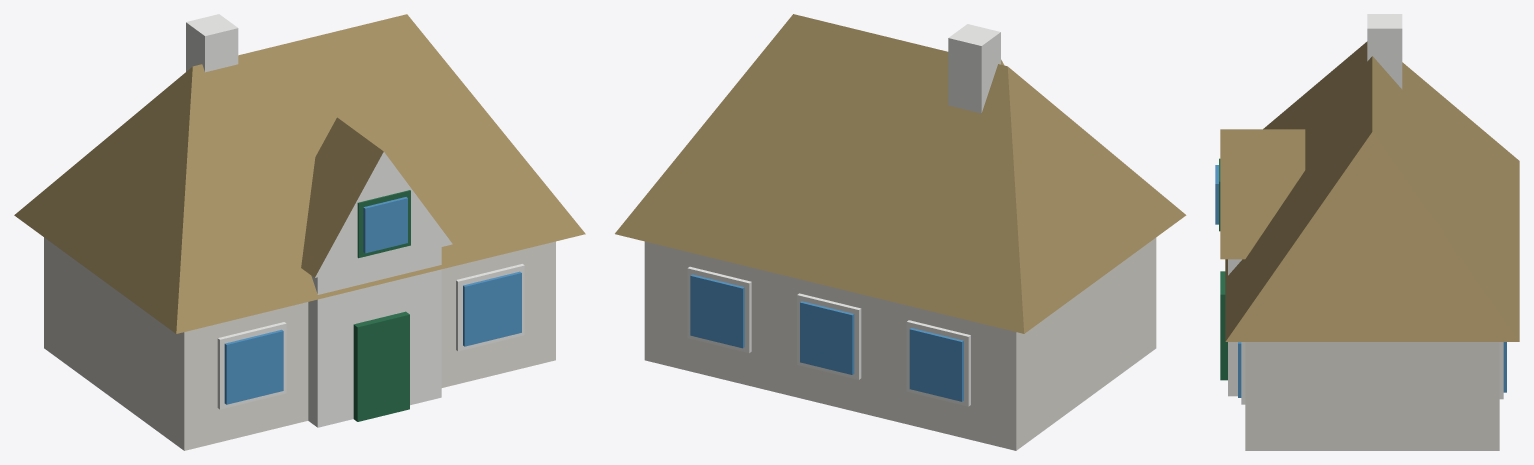
The model's file is 26_frisian_thatch_2.obj.
3 views of the same model, side by side, from view 1: azimuth 30°, elevation 25°; view 2: azimuth 150°, elevation 25°; view 3: azimuth 270°, elevation 25° (orthographic). The views are drawn at different scales.
Parts seen in each view (by area): view 1: 26_frisian_thatch_2; view 2: 26_frisian_thatch_2; view 3: 26_frisian_thatch_2.
Part boxes in pixels (x1,y1,x2,y2): 26_frisian_thatch_2: (14,14,585,450); 26_frisian_thatch_2: (615,14,1186,450); 26_frisian_thatch_2: (1215,14,1519,450).
Bounding box in the file's own units: 1.72 × 1.38 × 1.22.
